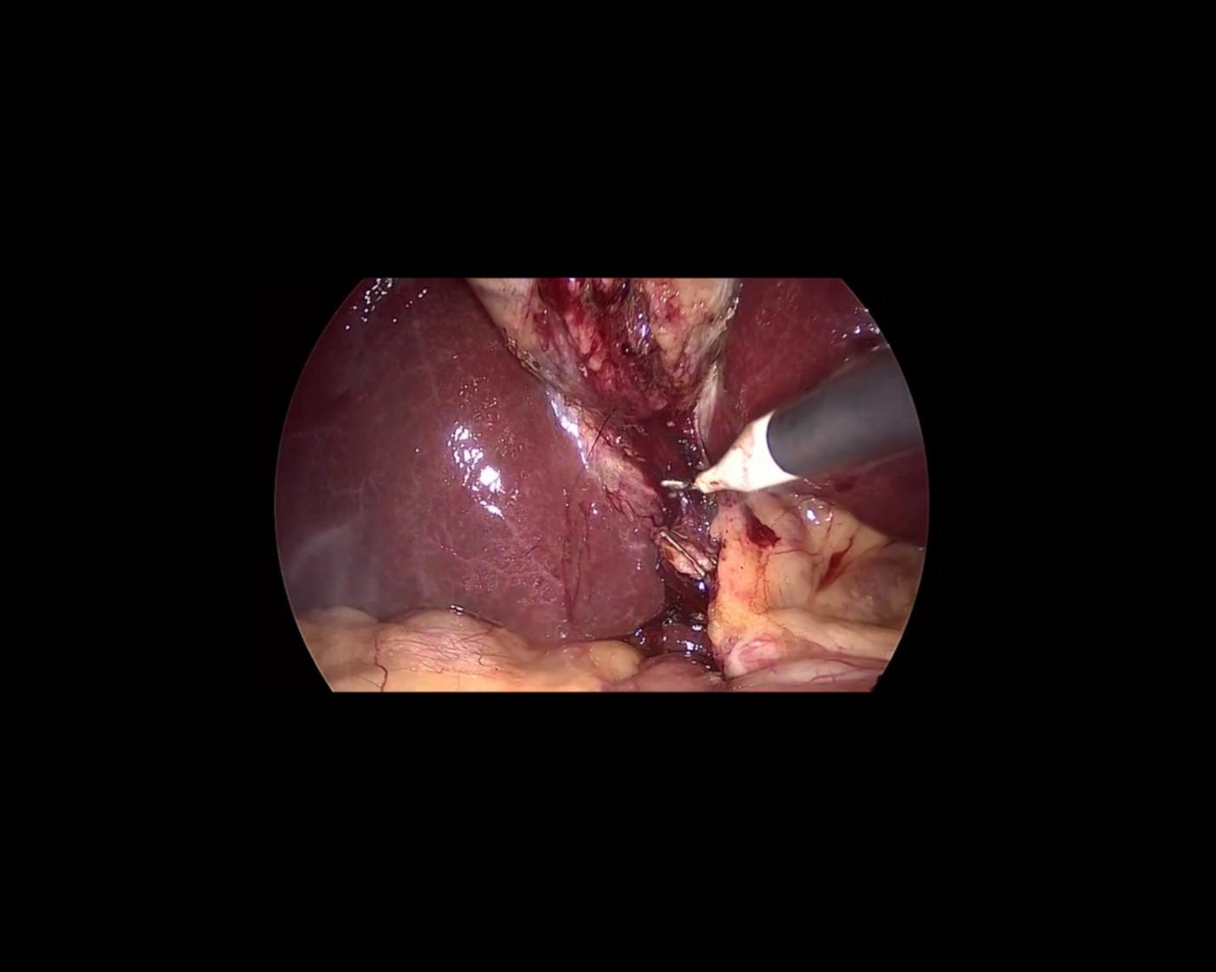Cautery: (642, 344, 921, 519)
Gallbladder: (466, 280, 746, 415)
Liver: (269, 272, 679, 647), (682, 249, 1000, 548)
